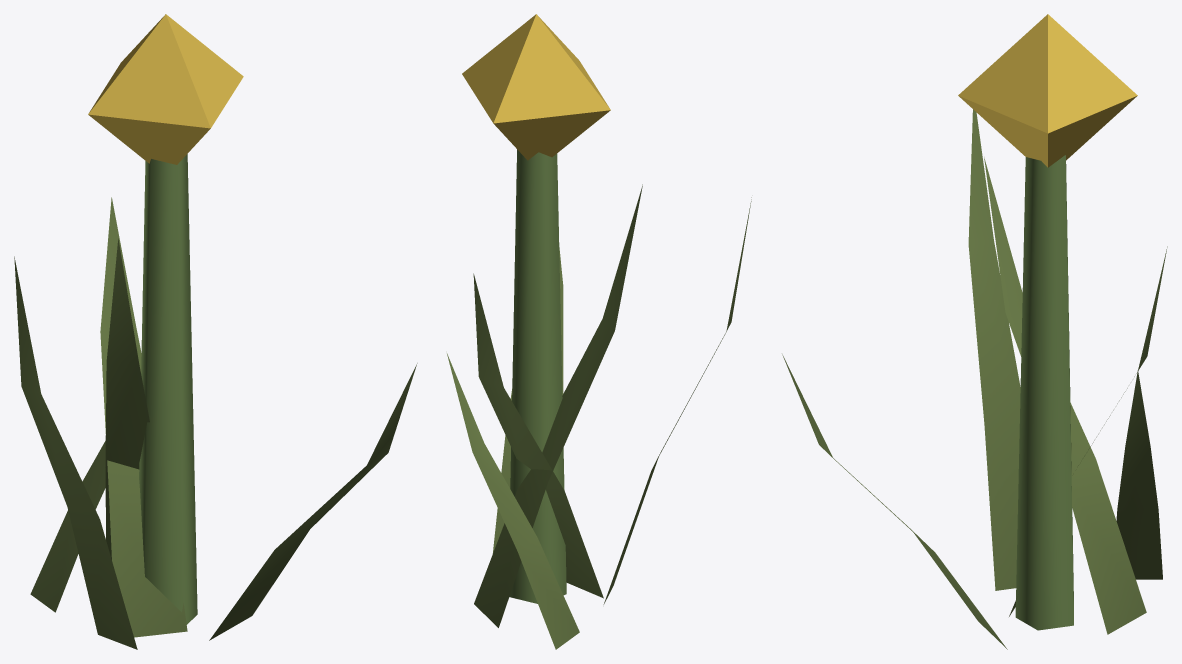
Rendered from meadow-kit.glb.
3 views of the same model, side by side, from view 1: azimuth 30°, elevation 25°; view 2: azimuth 150°, elevation 25°; view 3: azimuth 270°, elevation 25° (orthographic). The views are drawn at different scales.
Parts seen in each view (by area): view 1: grassTuftInstances, wildflowerStemInstances, wildflowerGoldInstances; view 2: grassTuftInstances, wildflowerStemInstances, wildflowerGoldInstances; view 3: grassTuftInstances, wildflowerStemInstances, wildflowerGoldInstances.
Part boxes in pixels (left/top/right/bottom): grassTuftInstances: left=14, top=197, right=417, bottom=649; wildflowerStemInstances: left=139, top=154, right=197, bottom=624; wildflowerGoldInstances: left=88, top=14, right=243, bottom=164; grassTuftInstances: left=447, top=184, right=751, bottom=649; wildflowerStemInstances: left=509, top=149, right=566, bottom=603; wildflowerGoldInstances: left=462, top=14, right=610, bottom=160; grassTuftInstances: left=782, top=109, right=1167, bottom=649; wildflowerStemInstances: left=1015, top=155, right=1073, bottom=630; wildflowerGoldInstances: left=958, top=14, right=1137, bottom=167.
Bounding box in the file's own units: 0.197 × 0.37 × 0.2149.
